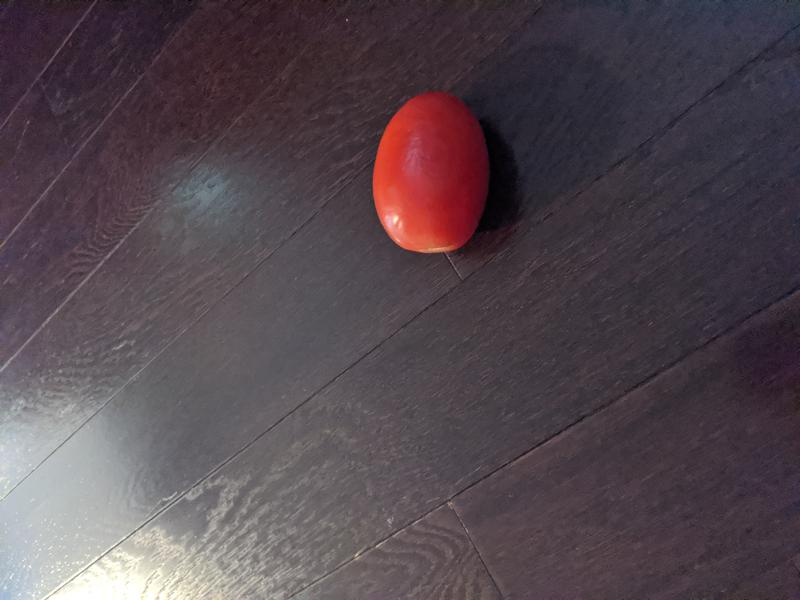tomato: (371, 90, 491, 255)
